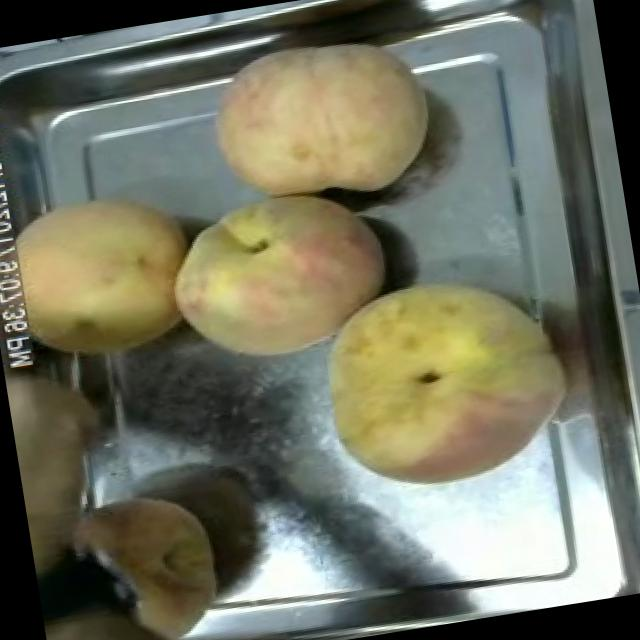Fruit: (300, 249, 588, 510), (189, 12, 450, 227), (150, 177, 407, 383), (0, 171, 214, 385), (1, 336, 127, 592), (60, 464, 240, 640)
